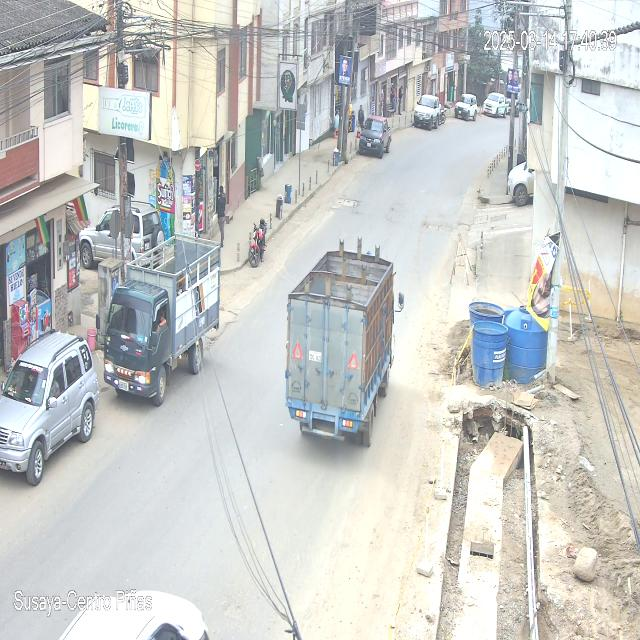TRUCK: (285, 250, 397, 448), (104, 236, 220, 407)
